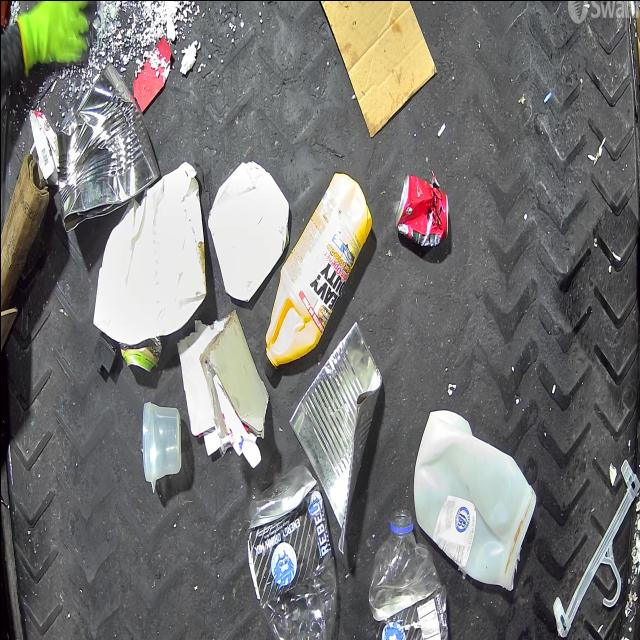can: (47, 62, 155, 235), (394, 172, 448, 246), (122, 338, 160, 371)
milk_jug: (412, 409, 536, 591)
non_white_jug: (260, 168, 368, 376)
plastic_bottle: (246, 462, 338, 640), (368, 508, 449, 640)
